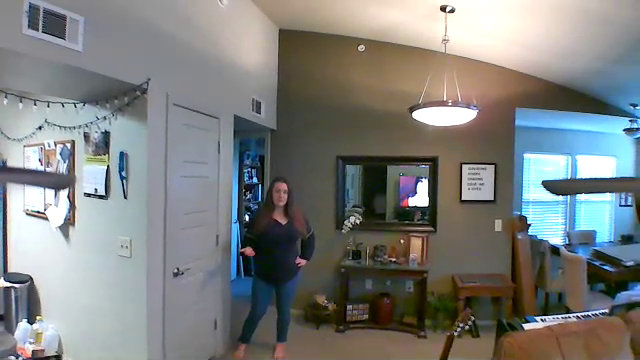land: (235, 243, 263, 262)
